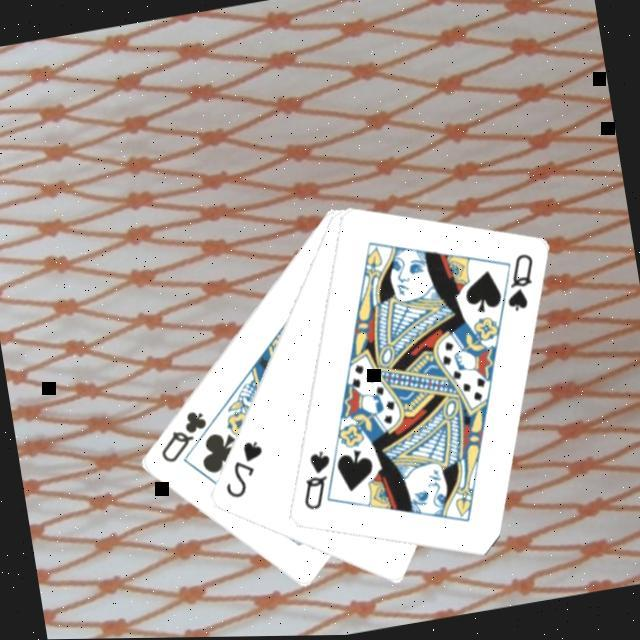2S: (212, 436, 270, 504)
QC: (148, 406, 212, 468)
QS: (290, 446, 338, 516), (494, 250, 542, 318)
